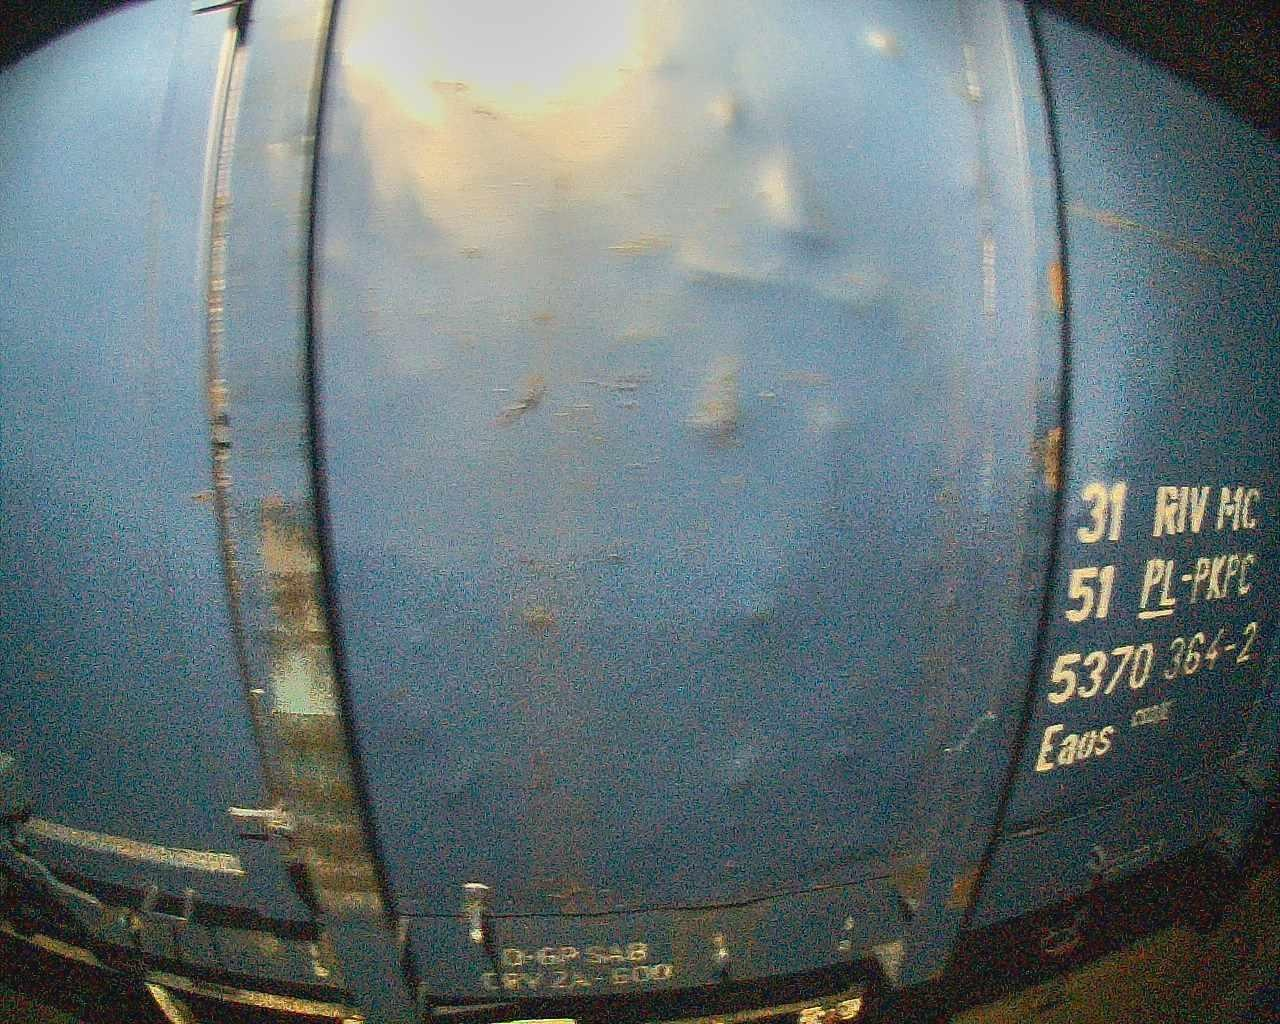UIC: (1028, 483, 1262, 777)
